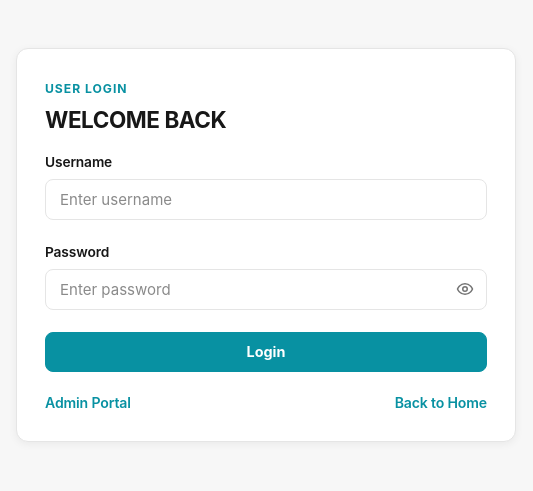
Test: User and Admin Login Integration › rejects an admin role trying to login via the user login page
Type "admin_only" into the field with placeholder "Enter username" at [266, 200], box [45,179,487,220]
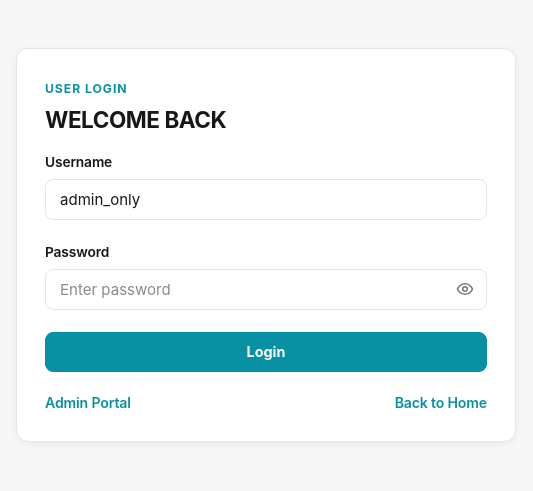
Type "secret" into the password field with placeholder "Enter password" at [266, 289], box [45,269,487,310]
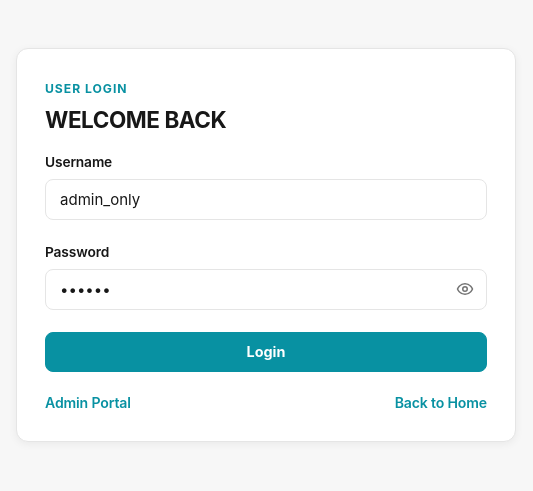
Click the button "Login" at [266, 352], box [45,332,487,372]
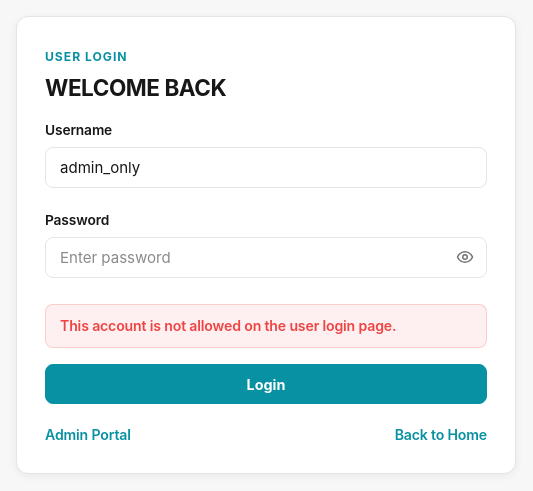
Result: the text "This account is not allowed on the user login page." is shown at [45,304,487,348]
